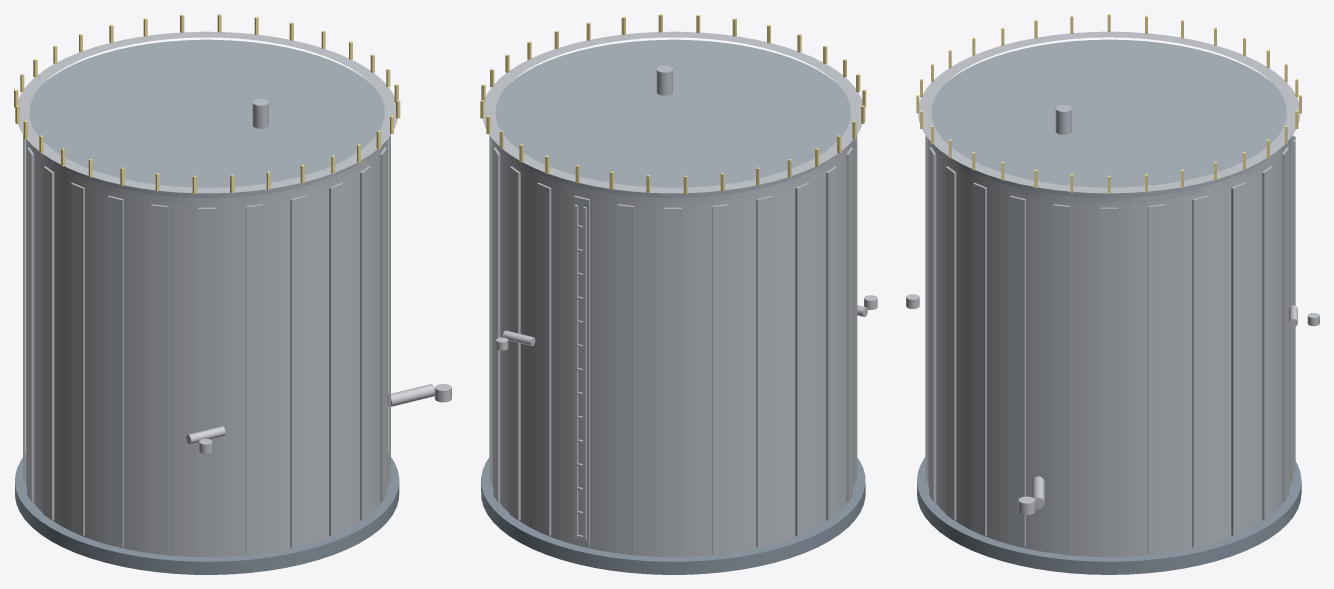
File: tank_e.glb
The picture shows the model from 3 angles, left to right: view 1: azimuth 30°, elevation 25°; view 2: azimuth 150°, elevation 25°; view 3: azimuth 270°, elevation 25°; orthographic projection.
Parts seen in each view (by area): view 1: shell, seal, foundation, panel_7, walkway, panel_9, panel_8, panel_6, panel_10, panel_5, panel_11, panel_12 (+6 smaller); view 2: shell, seal, foundation, walkway, panel_16, panel_15, panel_17, panel_14, panel_13, panel_19, panel_20, panel_12 (+7 smaller); view 3: shell, seal, foundation, walkway, panel_23, panel_0, panel_1, panel_22, panel_2, panel_21, panel_3, panel_4 (+7 smaller).
Part boxes in pixels (left/top/right/bottom): shell: left=26, top=139, right=388, bottom=557; seal: left=29, top=39, right=384, bottom=203; foundation: left=15, top=454, right=399, bottom=574; panel_7: left=245, top=204, right=263, bottom=554; walkway: left=18, top=31, right=397, bottom=193; panel_9: left=151, top=204, right=168, bottom=554; panel_8: left=198, top=207, right=215, bottom=556; panel_6: left=290, top=195, right=306, bottom=547; panel_10: left=107, top=195, right=123, bottom=547; panel_5: left=329, top=182, right=343, bottom=535; panel_11: left=71, top=182, right=84, bottom=535; panel_12: left=43, top=166, right=54, bottom=520; shell: left=492, top=138, right=854, bottom=557; seal: left=495, top=39, right=850, bottom=203; foundation: left=481, top=457, right=865, bottom=574; walkway: left=482, top=31, right=862, bottom=193; panel_16: left=664, top=207, right=681, bottom=556; panel_15: left=712, top=204, right=729, bottom=554; panel_17: left=617, top=204, right=634, bottom=554; panel_14: left=756, top=195, right=772, bottom=547; panel_13: left=795, top=182, right=809, bottom=536; panel_19: left=537, top=183, right=551, bottom=536; panel_20: left=509, top=166, right=520, bottom=520; panel_12: left=826, top=166, right=836, bottom=520; shell: left=927, top=138, right=1290, bottom=557; seal: left=931, top=39, right=1286, bottom=203; foundation: left=917, top=457, right=1301, bottom=574; walkway: left=918, top=31, right=1300, bottom=193; panel_23: left=1147, top=204, right=1165, bottom=554; panel_0: left=1100, top=207, right=1117, bottom=556; panel_1: left=1053, top=204, right=1070, bottom=554; panel_22: left=1192, top=195, right=1208, bottom=547; panel_2: left=1009, top=195, right=1025, bottom=547; panel_21: left=1231, top=182, right=1245, bottom=535; panel_3: left=973, top=182, right=986, bottom=535; panel_4: left=945, top=166, right=956, bottom=520.
Size of the model in its own units: 5.53 by 5.72 by 5.36.
